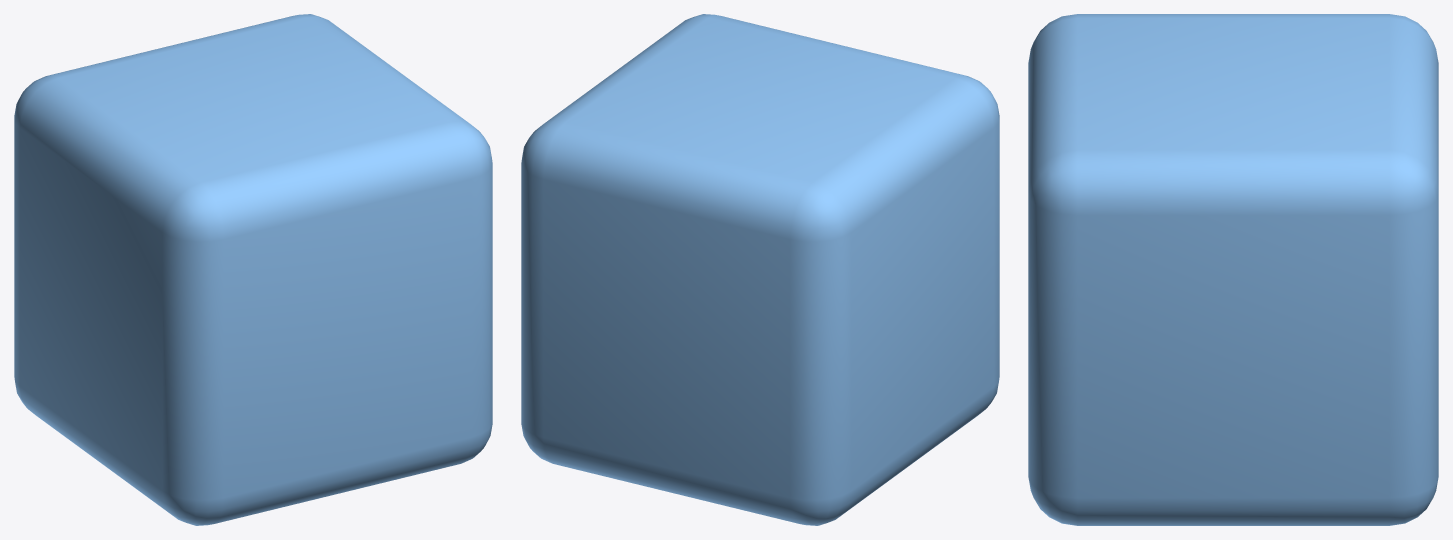
Rendered from soft.glb.
The picture shows the model from 3 angles, left to right: view 1: azimuth 30°, elevation 25°; view 2: azimuth 150°, elevation 25°; view 3: azimuth 270°, elevation 25°; orthographic projection. The views are drawn at different scales.
Visible parts, largest first — view 1: block_soft; view 2: block_soft; view 3: block_soft.
Part boxes in pixels (x1=…): block_soft: x1=14, y1=14, x2=492, y2=525; block_soft: x1=521, y1=14, x2=999, y2=525; block_soft: x1=1028, y1=14, x2=1438, y2=525.
Size of the model in its own units: 1 by 1 by 1.
